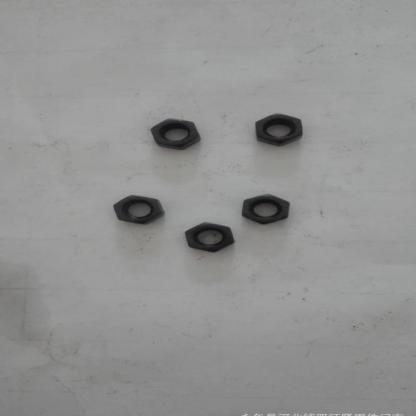FOD: (146, 116, 203, 152), (237, 191, 294, 226), (106, 194, 165, 227), (254, 111, 304, 147), (181, 222, 237, 254)
